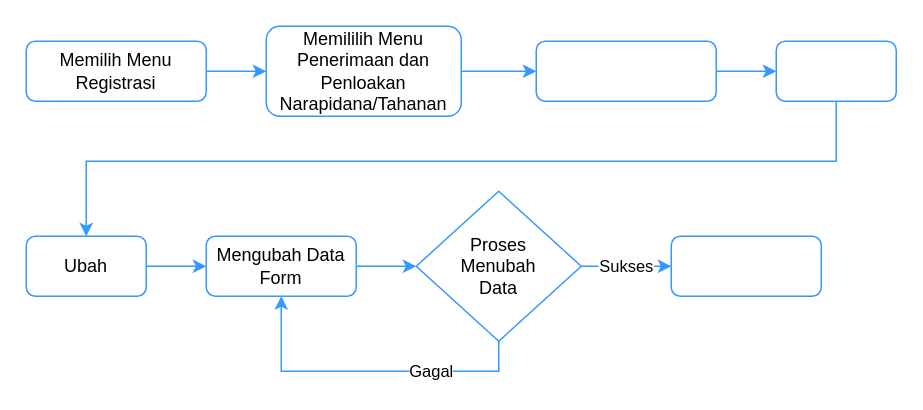
This 923x410 diagram has some shape labels left out. The centre of each missing label's shape, as x and y in pixels:
"Halaman Utama" belongs at pixel 835 70.
"Kembali Ke Halaman Utama" belongs at pixel 745 265.
"Memilih Menu Penerimaan" belongs at pixel 625 70.
